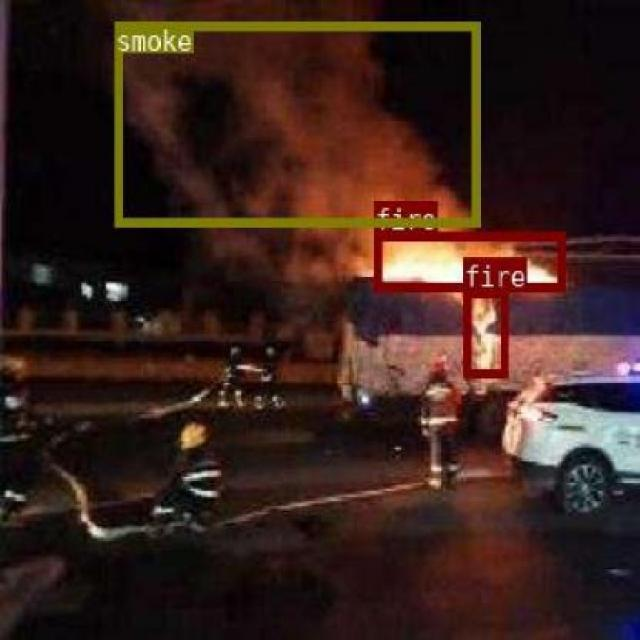CIV_Plane: (372, 230, 563, 288), (462, 288, 506, 377)
Fire: (372, 230, 563, 288), (462, 288, 506, 377)
Smoke: (113, 23, 478, 222)
